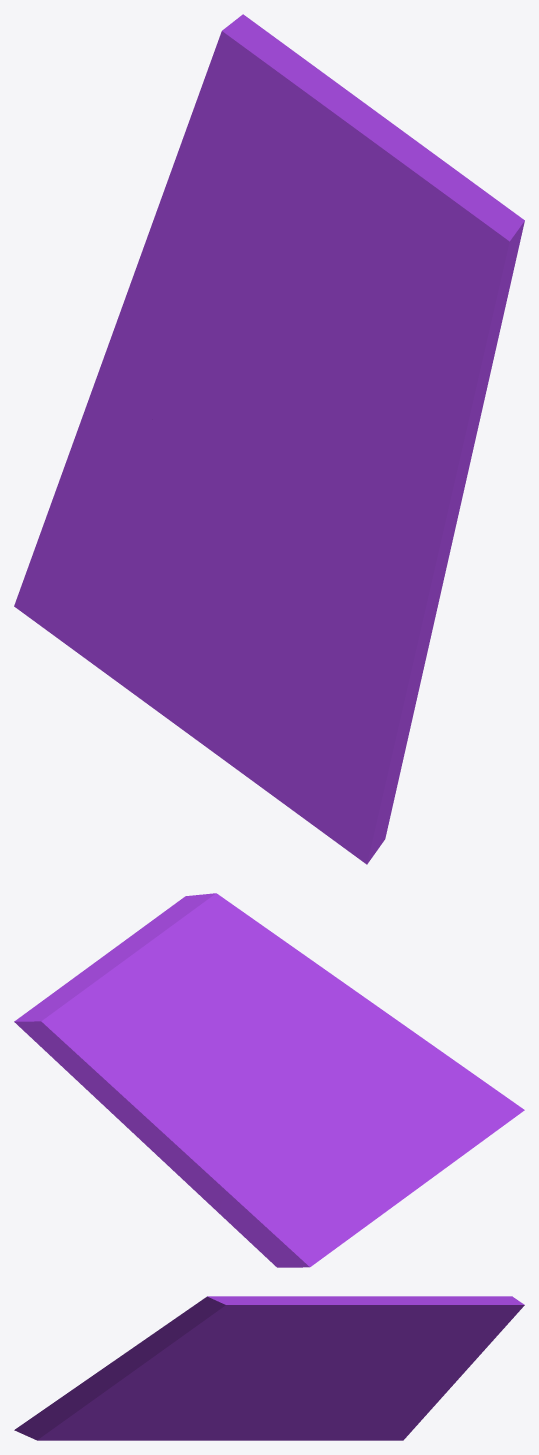
The model's file is Window_55_chunks.fbx.
3 renders of one model, top to bottom at view 1: azimuth 30°, elevation 25°; view 2: azimuth 150°, elevation 25°; view 3: azimuth 270°, elevation 25°, orthographic. The views are drawn at different scales.
Parts seen in each view (by area): view 1: Window_55_0, Window_55_3, Window_55_2, Window_55_1; view 2: Window_55_0, Window_55_2, Window_55_3, Window_55_1; view 3: Window_55_0, Window_55_1, Window_55_3, Window_55_2.
Part boxes in pixels (<box>): Window_55_0: <box>79,14,449,424</box>; Window_55_3: <box>277,166,524,623</box>; Window_55_2: <box>14,410,287,758</box>; Window_55_1: <box>222,463,444,864</box>; Window_55_0: <box>14,929,258,1212</box>; Window_55_2: <box>219,1068,436,1267</box>; Window_55_3: <box>140,893,405,1072</box>; Window_55_1: <box>290,1026,524,1174</box>; Window_55_0: <box>286,1296,524,1410</box>; Window_55_1: <box>14,1371,300,1440</box>; Window_55_3: <box>89,1296,310,1382</box>; Window_55_2: <box>218,1381,429,1440</box>.
Size of the model in its own units: 756 by 829 by 1764.
